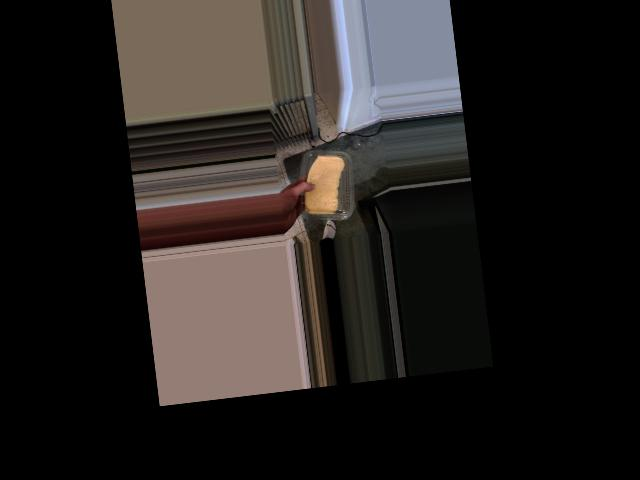cheese: (294, 147, 353, 223)
